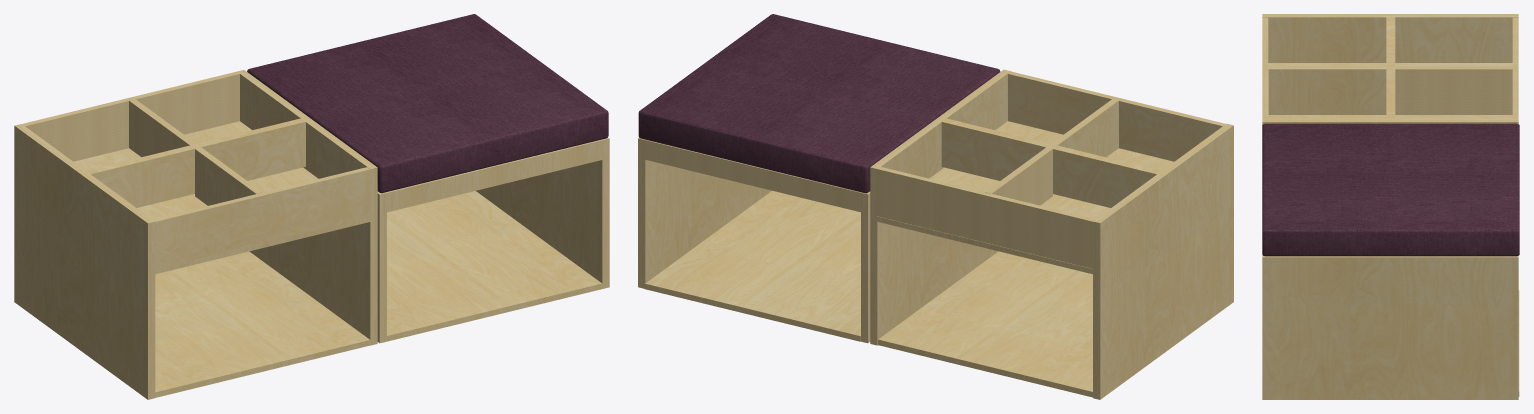
Rendered from Straight Seat and Book Tub.FBX.
3 views of the same model, side by side, from view 1: azimuth 30°, elevation 25°; view 2: azimuth 150°, elevation 25°; view 3: azimuth 270°, elevation 25° (orthographic). The views are drawn at different scales.
Parts seen in each view (by area): view 1: Group_001, Box017_001, Box022_001, Box018_001, Box016_001, Box015_001, Box024_001, Component#14_001, Box020_001, Box021_001, Box019_001, Object053_001 (+2 smaller); view 2: Group_001, Box017_001, Box022_001, Box018_001, Box016_001, Box020_001, Box024_001, Component#14_001, Box015_001, Box019_001, Box026_001, Object053_001 (+2 smaller); view 3: Box024_001, Group_001, Box017_001, Object053_001, Object051_001, Box019_001, Box016_001, Component#14_001, Box015_001, Box020_001.
Boxes of the visible parts, x1,y1,x2,y2 form: Group_001: [247, 14, 608, 193]; Box017_001: [14, 124, 155, 399]; Box022_001: [387, 191, 602, 341]; Box018_001: [155, 251, 370, 397]; Box016_001: [237, 70, 377, 345]; Box015_001: [152, 167, 370, 268]; Box024_001: [476, 137, 609, 288]; Component#14_001: [86, 118, 305, 207]; Box020_001: [22, 71, 239, 161]; Box021_001: [386, 140, 602, 212]; Box019_001: [74, 121, 370, 274]; Object053_001: [195, 147, 262, 205]; Group_001: [638, 14, 1000, 193]; Box017_001: [1093, 123, 1233, 399]; Box022_001: [644, 190, 860, 341]; Box018_001: [878, 251, 1092, 397]; Box016_001: [870, 69, 1010, 345]; Box020_001: [877, 167, 1095, 268]; Box024_001: [638, 138, 771, 288]; Component#14_001: [941, 118, 1161, 207]; Box015_001: [1008, 71, 1225, 161]; Box019_001: [876, 121, 1173, 274]; Box026_001: [645, 140, 860, 212]; Object053_001: [1051, 99, 1118, 157]; Box024_001: [1262, 255, 1518, 399]; Group_001: [1262, 123, 1519, 256]; Box017_001: [1262, 14, 1518, 62]; Object053_001: [1268, 66, 1386, 114]; Object051_001: [1395, 66, 1512, 114]; Box019_001: [1268, 63, 1512, 118]; Box016_001: [1262, 118, 1518, 124]; Component#14_001: [1386, 17, 1395, 118]; Box015_001: [1262, 17, 1268, 118]; Box020_001: [1512, 17, 1518, 118].
Bounding box in the file's own units: 1230 × 450 × 619.
2 materials, 2 textured.
